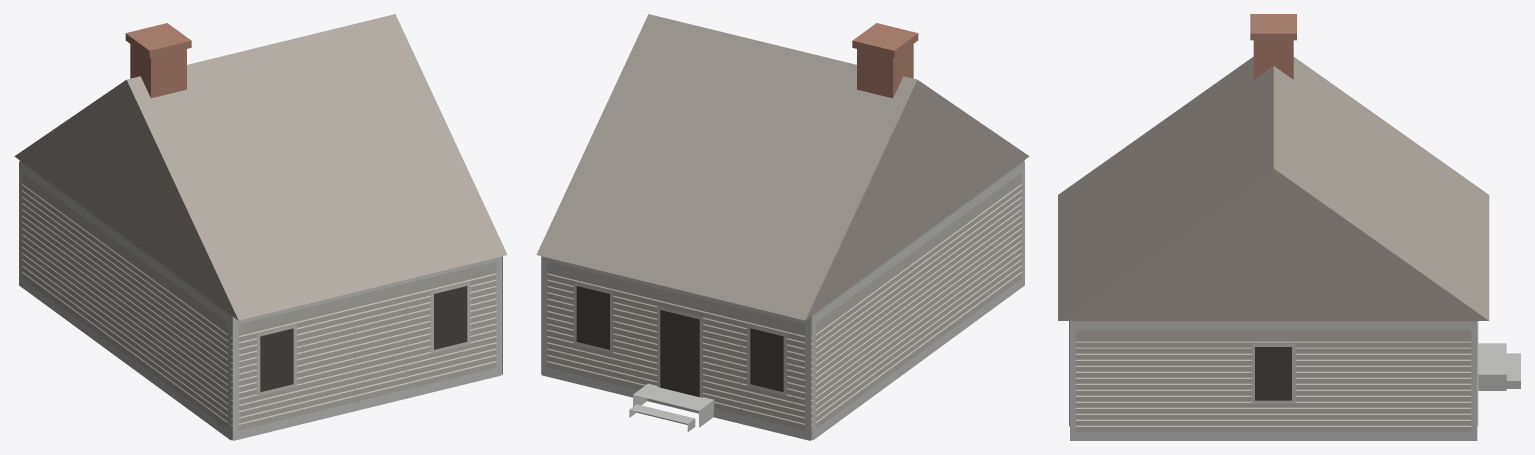
Rendered from recon_1835_south_d4_019__inferred_1835.glb.
The picture shows the model from 3 angles, left to right: view 1: azimuth 30°, elevation 25°; view 2: azimuth 150°, elevation 25°; view 3: azimuth 270°, elevation 25°; orthographic projection. The views are drawn at different scales.
Visible parts, largest first — view 1: recon_1835_south_d4_019__inferred_1835; view 2: recon_1835_south_d4_019__inferred_1835; view 3: recon_1835_south_d4_019__inferred_1835.
Part boxes in pixels (x1,y1,x2,y2): recon_1835_south_d4_019__inferred_1835: (14,14,507,440); recon_1835_south_d4_019__inferred_1835: (536,14,1029,440); recon_1835_south_d4_019__inferred_1835: (1058,14,1520,440).
Bounding box in the file's own units: 6.38 × 7.11 × 9.77.
